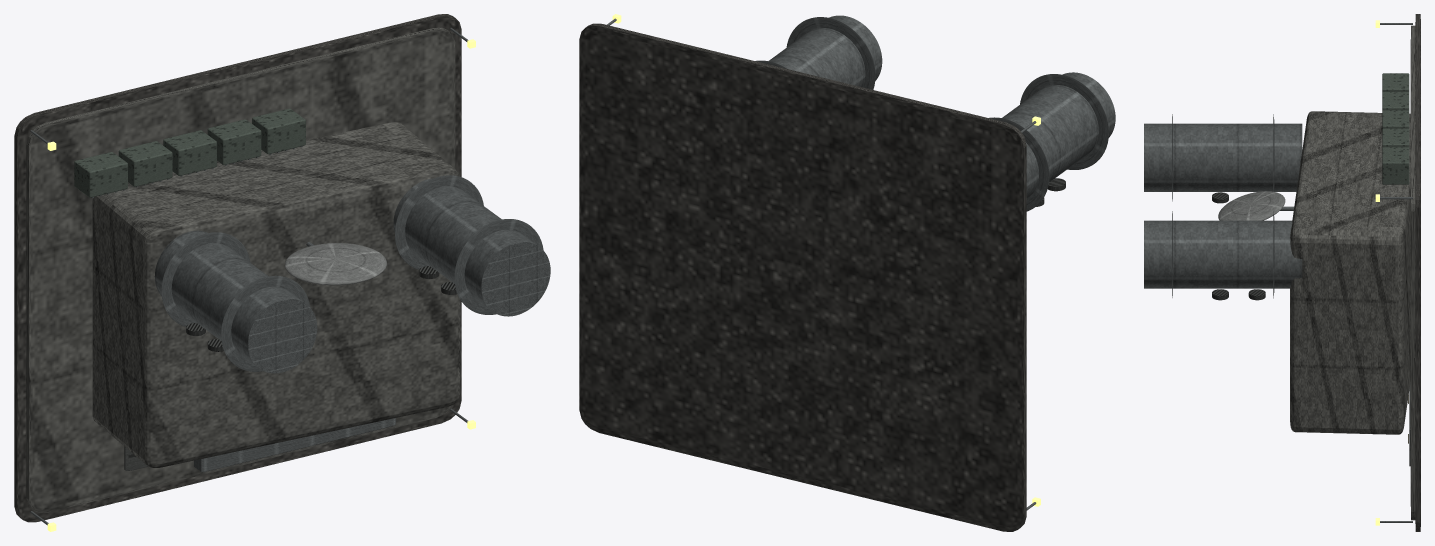
Rendered from b-49-data-vault-lod0.glb.
3 views of the same model, side by side, from view 1: azimuth 30°, elevation 25°; view 2: azimuth 150°, elevation 25°; view 3: azimuth 270°, elevation 25° (orthographic). The views are drawn at different scales.
Parts seen in each view (by area): view 1: vault_main, foundation_inner_pad, foundation, cooling_tower_-4.2_vessel, cooling_tower_4.2_vessel, vault_dish_dish, vault_armored_lintel, vault_generator_0_container, cooling_tower_4.2_ring_high, cooling_tower_-4.2_ring_high, vault_generator_1_container, vault_generator_3_container (+4 smaller); view 2: foundation, cooling_tower_-4.2_vessel, cooling_tower_4.2_vessel, cooling_tower_-4.2_ring_high, cooling_tower_4.2_ring_high, cooling_tower_-4.2_ring_low; view 3: vault_main, cooling_tower_-4.2_vessel, cooling_tower_4.2_vessel, foundation, foundation_inner_pad, vault_dish_dish, vault_generator_4_container, vault_generator_3_container, vault_generator_1_container, vault_generator_2_container, vault_generator_0_container.
Boxes of the visible parts, x1,y1,x2,y2 form: vault_main: [92, 122, 460, 467]; foundation_inner_pad: [26, 27, 455, 512]; foundation: [14, 14, 461, 522]; cooling_tower_-4.2_vessel: [154, 230, 317, 373]; cooling_tower_4.2_vessel: [393, 178, 550, 316]; vault_dish_dish: [285, 243, 386, 285]; vault_armored_lintel: [194, 418, 395, 472]; vault_generator_0_container: [74, 152, 127, 197]; cooling_tower_4.2_ring_high: [454, 219, 543, 314]; cooling_tower_-4.2_ring_high: [221, 275, 309, 371]; vault_generator_1_container: [118, 141, 172, 186]; vault_generator_3_container: [207, 119, 261, 165]; foundation: [579, 23, 1026, 531]; cooling_tower_-4.2_vessel: [1002, 72, 1115, 198]; cooling_tower_4.2_vessel: [768, 15, 882, 87]; cooling_tower_-4.2_ring_high: [1020, 74, 1108, 169]; cooling_tower_4.2_ring_high: [786, 17, 875, 89]; cooling_tower_-4.2_ring_low: [989, 117, 1049, 211]; vault_main: [1290, 111, 1410, 434]; cooling_tower_-4.2_vessel: [1144, 123, 1302, 191]; cooling_tower_4.2_vessel: [1144, 220, 1302, 288]; foundation: [1415, 14, 1420, 531]; foundation_inner_pad: [1410, 25, 1415, 520]; vault_dish_dish: [1218, 191, 1285, 220]; vault_generator_4_container: [1382, 147, 1409, 184]; vault_generator_3_container: [1382, 128, 1409, 147]; vault_generator_1_container: [1382, 92, 1409, 110]; vault_generator_2_container: [1382, 110, 1409, 128]; vault_generator_0_container: [1382, 73, 1409, 91].
Size of what is drawn, in the model's own units: 16 by 14 by 10.15.
9 materials, 9 textured.
